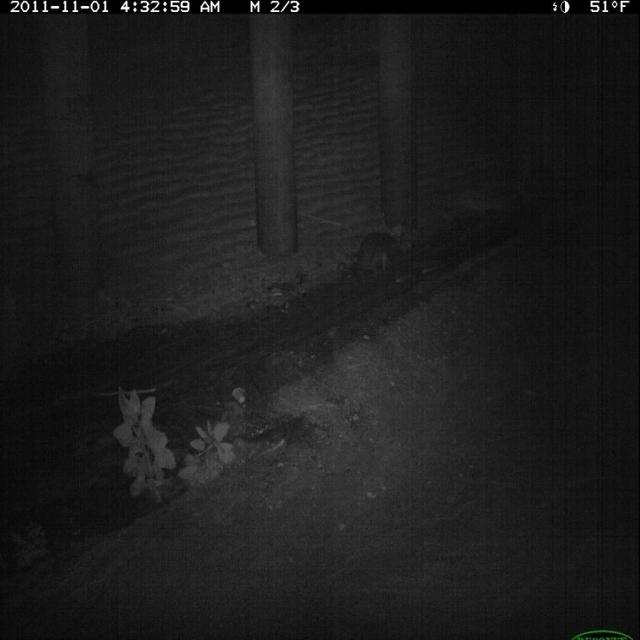raccoon: (353, 226, 406, 289)
